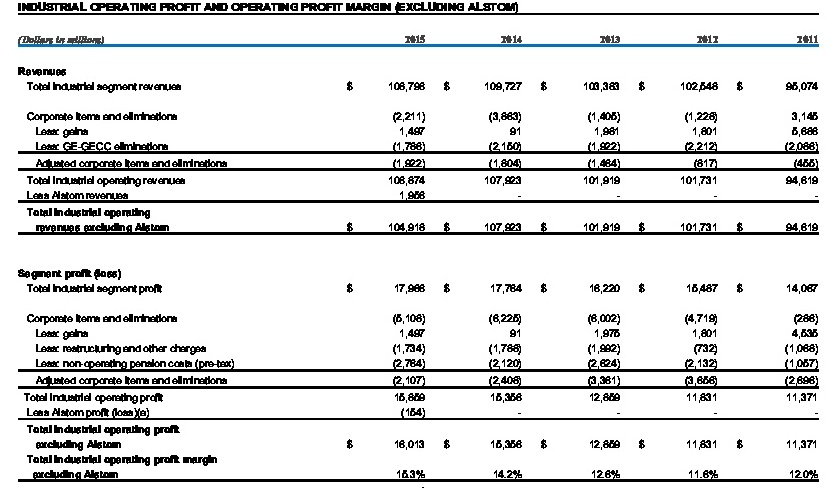table: (0, 0, 835, 496)
